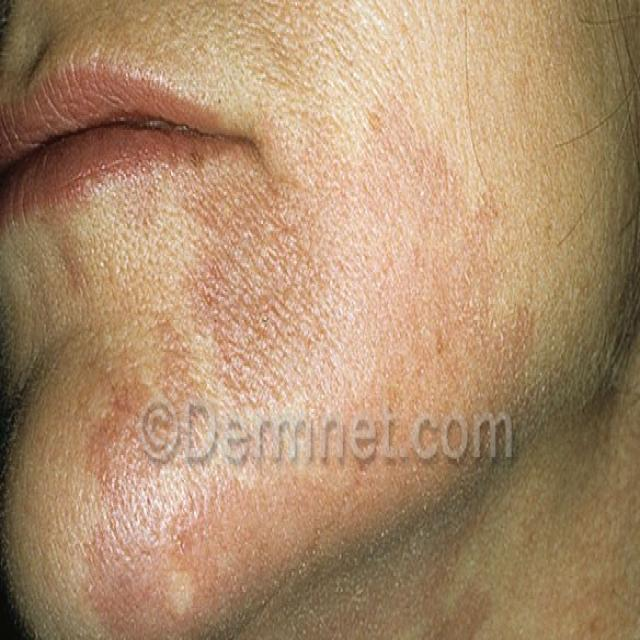Vascular Tumors: (336, 147, 531, 537), (44, 389, 256, 640), (161, 162, 316, 349), (341, 556, 503, 640)
